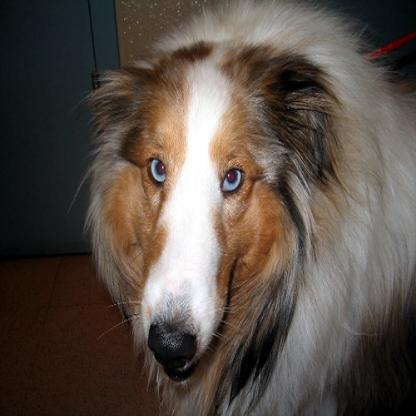Shetland_sheepdog: (65, 0, 413, 413)
